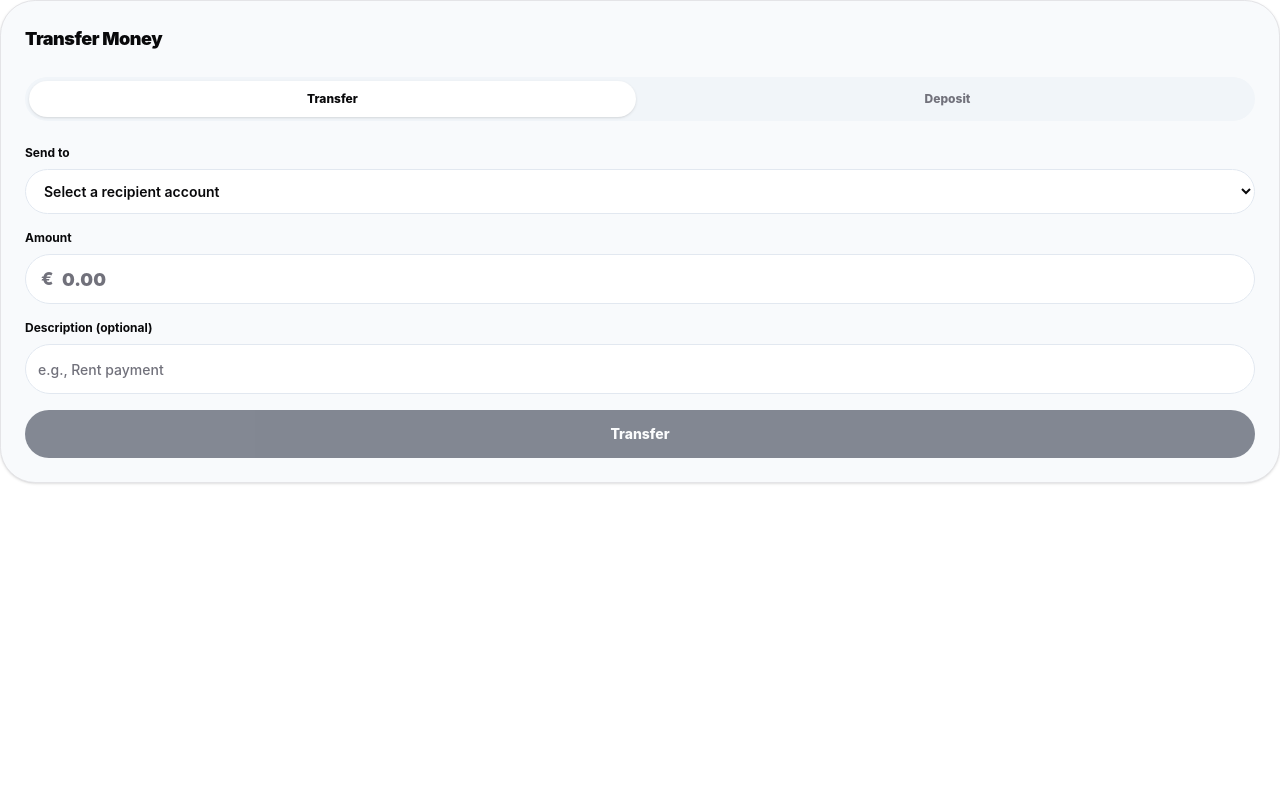
Test: Category 7: Money Transfer Form Component › Test 2: should display error message if attempting transfer without selecting a recipient
The image size is (1280, 800).
// Input amount
Type "50.00" into the number field labelled "Amount" at [640, 279], box [25,254,1255,304]
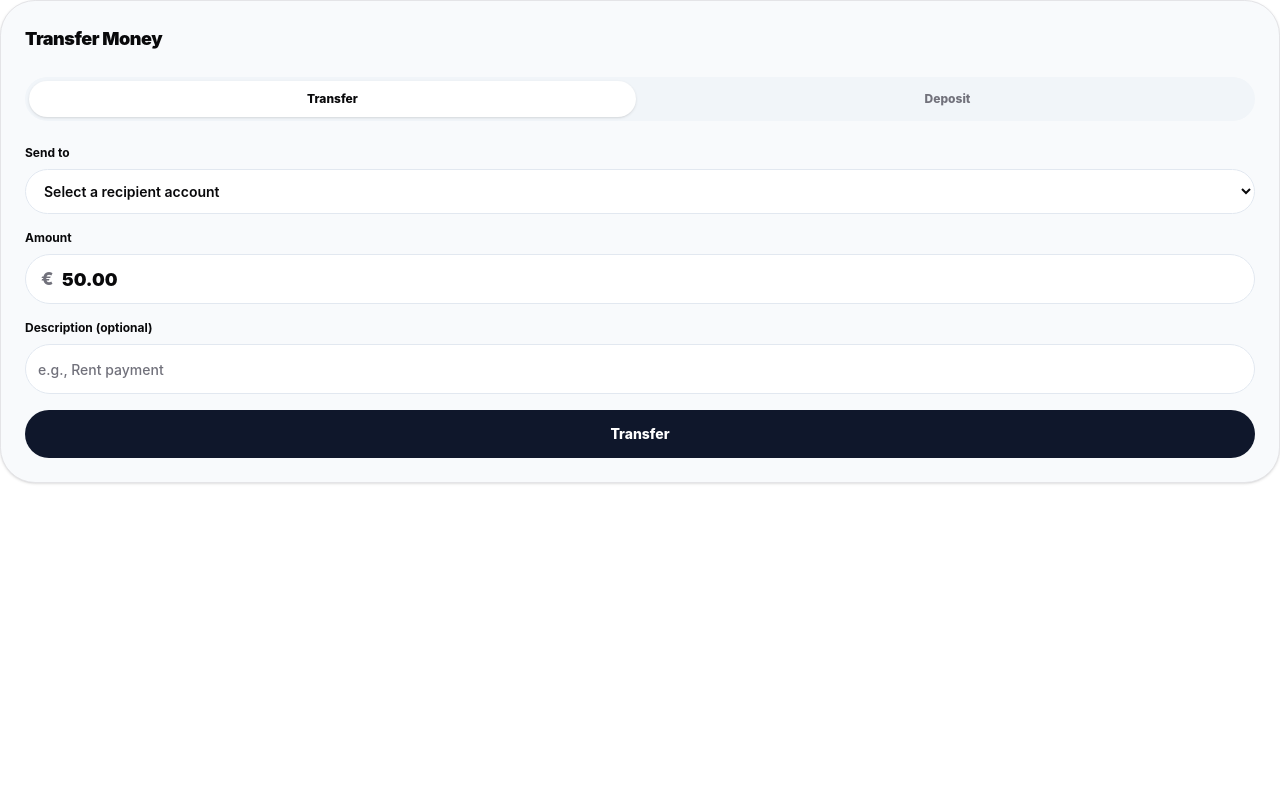
// Submit (recipient select has default empty value "")
Submit the form, box [25,77,1255,458]
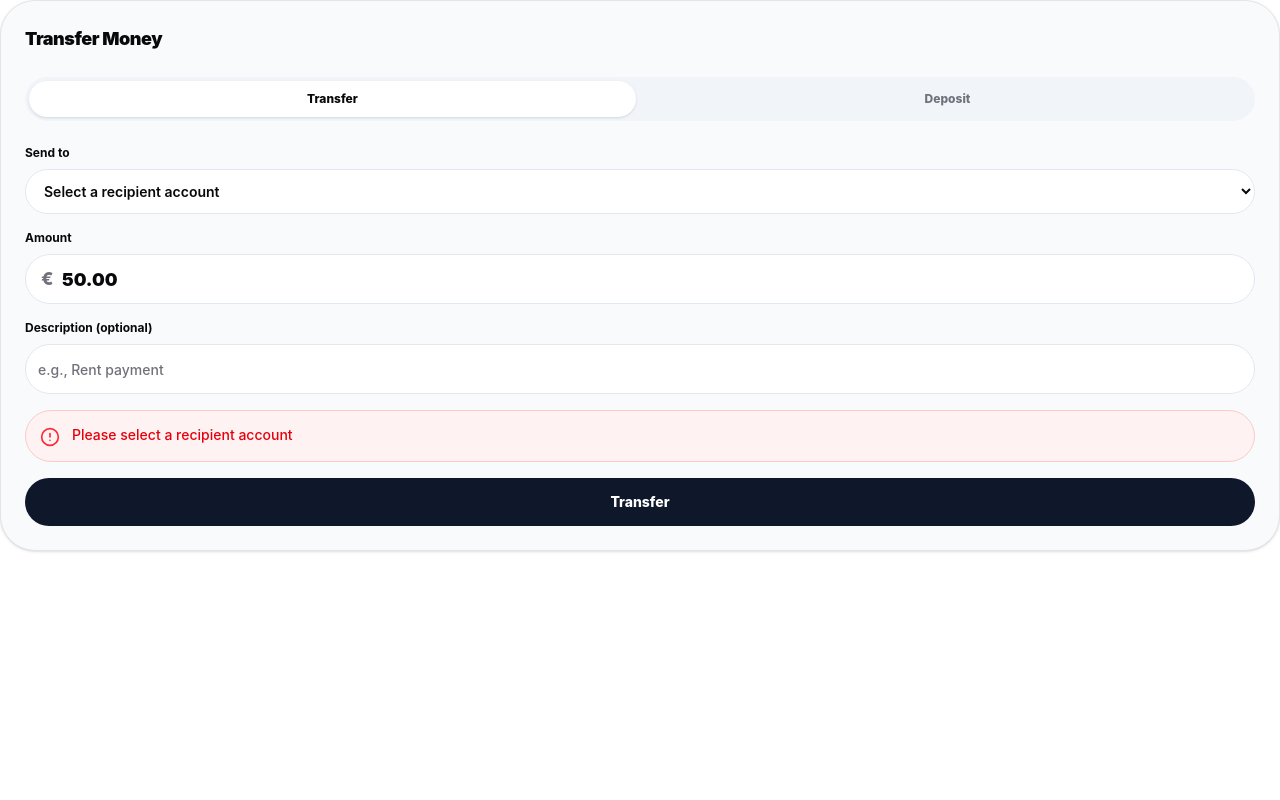
Result: the text "Please select a recipient account" is shown at [72,425,293,447]
